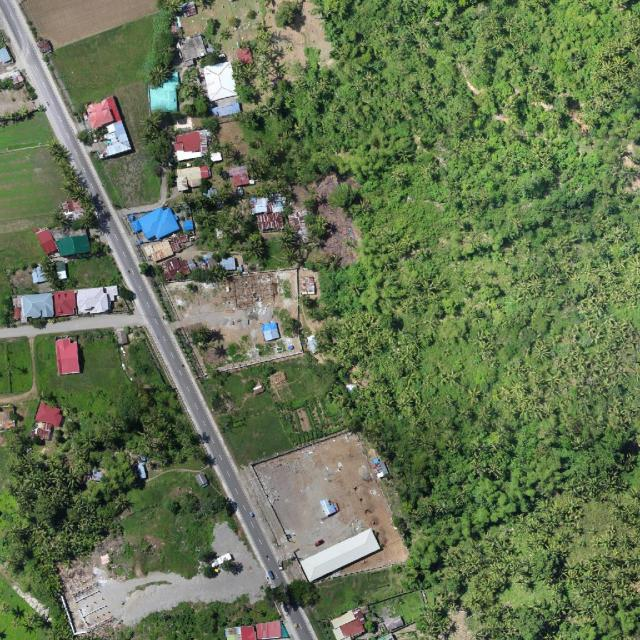agricultural_land: (51, 15, 213, 219), (25, 0, 156, 49), (0, 227, 46, 271)
building: (299, 527, 382, 583), (11, 285, 121, 323), (201, 60, 242, 119), (135, 202, 183, 245), (90, 120, 134, 163), (202, 61, 238, 102), (172, 128, 214, 162), (83, 96, 122, 131), (286, 206, 320, 243), (250, 195, 284, 232), (149, 71, 179, 111), (55, 337, 80, 375), (33, 222, 60, 257), (159, 253, 190, 283), (176, 33, 207, 63), (56, 233, 91, 257), (176, 167, 212, 190), (34, 402, 65, 428), (368, 454, 391, 481), (147, 240, 174, 263), (61, 199, 84, 221), (260, 321, 280, 342), (36, 36, 56, 57), (210, 551, 234, 568), (177, 0, 198, 19), (321, 497, 340, 517), (235, 47, 255, 66), (383, 614, 404, 632), (29, 265, 47, 286), (169, 235, 190, 253), (219, 256, 238, 273), (194, 471, 209, 489), (54, 261, 68, 279), (301, 276, 315, 294), (0, 46, 13, 64), (137, 462, 146, 479)
dryland: (242, 424, 410, 604), (54, 518, 270, 638), (167, 265, 321, 378)
greenland: (13, 291, 212, 514), (199, 339, 352, 469), (106, 365, 204, 480), (179, 174, 275, 286), (310, 566, 408, 621), (133, 111, 181, 170), (370, 591, 428, 633), (0, 338, 32, 393), (176, 67, 204, 102)
metalled_road: (0, 0, 283, 579)
